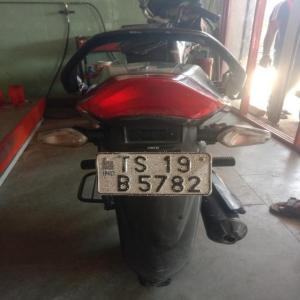Plate: (99, 152, 209, 196)
